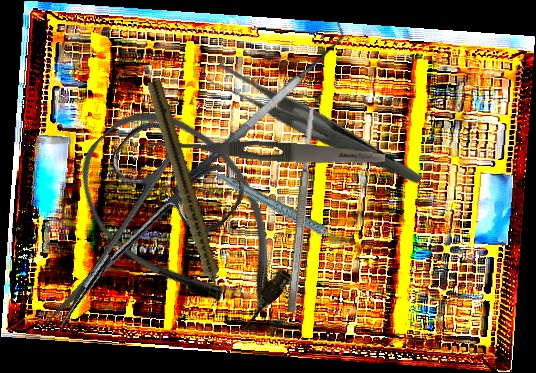Cannula: (53, 82, 323, 355)
Dressing Forceps: (204, 17, 423, 239), (150, 134, 386, 169)
Handpiece: (141, 79, 229, 305), (216, 150, 347, 273)
Iris Scissors: (7, 108, 251, 366)
Spatula Surgical: (156, 18, 357, 197), (285, 106, 319, 314)
